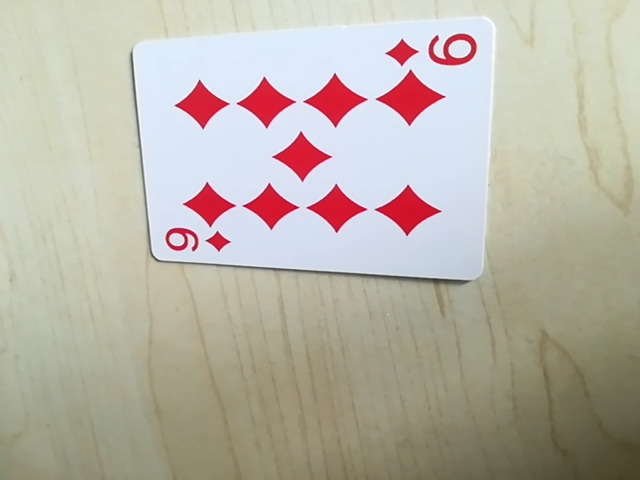fk 9: (386, 23, 481, 75), (159, 223, 236, 262)
